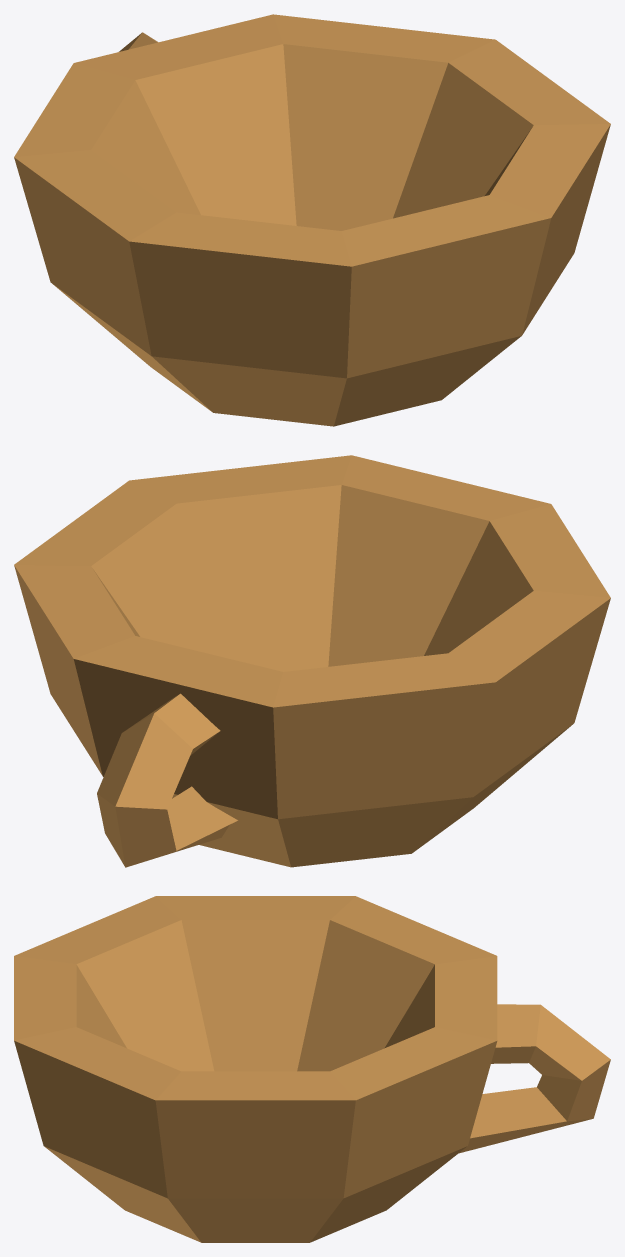
File: SM_Prop_Gold_Cup_01.fbx
3 views of the same model, one above another, from view 1: azimuth 30°, elevation 25°; view 2: azimuth 150°, elevation 25°; view 3: azimuth 270°, elevation 25° (orthographic). The views are drawn at different scales.
Visible parts, largest first — view 1: SM_Prop_Gold_Cup_01; view 2: SM_Prop_Gold_Cup_01; view 3: SM_Prop_Gold_Cup_01.
Part boxes in pixels (x1,y1,x2,y2): SM_Prop_Gold_Cup_01: (14,14,610,426); SM_Prop_Gold_Cup_01: (14,455,610,867); SM_Prop_Gold_Cup_01: (14,896,610,1242).
Size of the model in its own units: 21.44 by 9.39 by 26.48.
